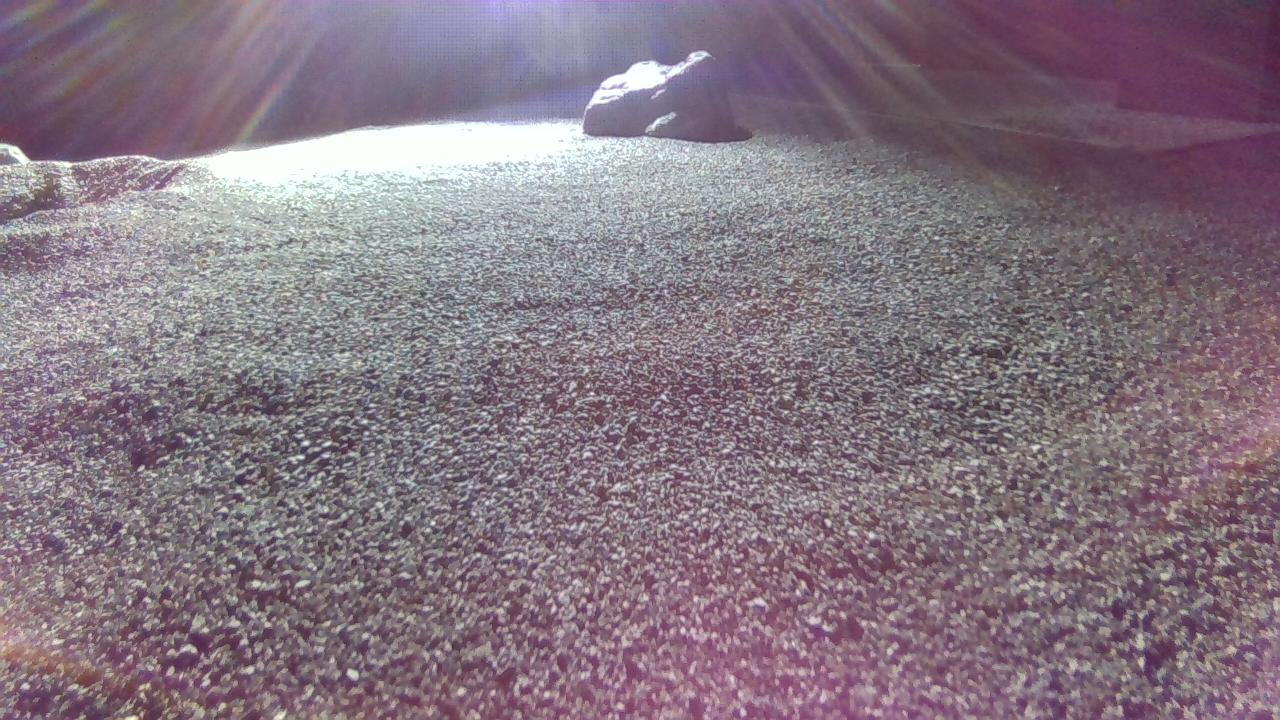rock: (583, 49, 739, 141)
